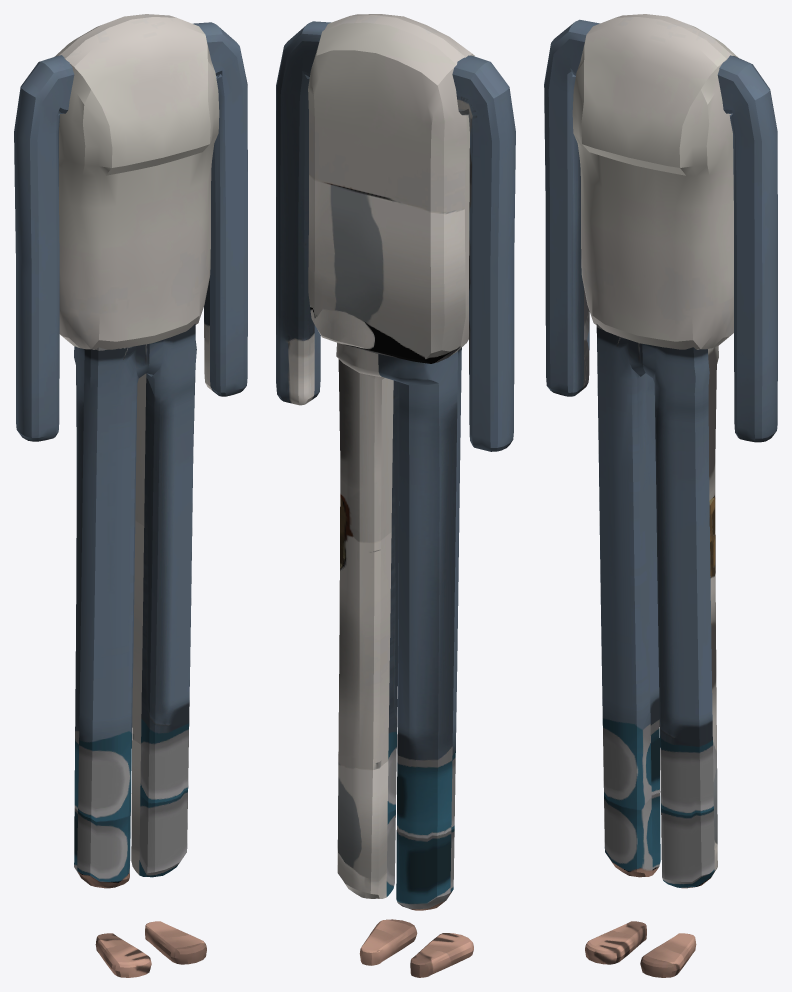
File: clothes.obj
The picture shows the model from 3 angles, left to right: view 1: azimuth 30°, elevation 25°; view 2: azimuth 150°, elevation 25°; view 3: azimuth 330°, elevation 25°; orthographic projection. The views are drawn at different scales.
Visible parts, largest first — view 1: Body.004; view 2: Body.004; view 3: Body.004.
Boxes of the visible parts, x1,y1,x2,y2 form: Body.004: (14,14,247,977); Body.004: (276,14,515,977); Body.004: (544,14,777,977).
Size of the model in its own units: 0.3804 by 1.48 by 0.171.
